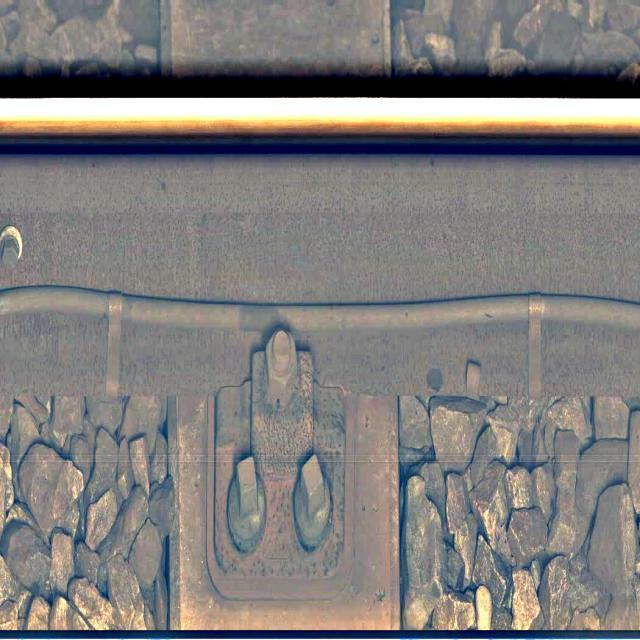Good Fasteners: (213, 325, 345, 579)
